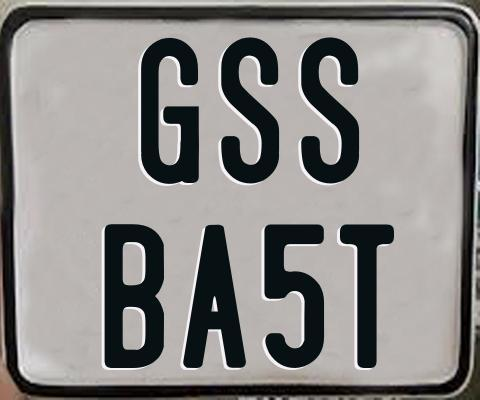5: (263, 221, 327, 367)
A: (180, 222, 245, 368)
B: (104, 223, 168, 373)
G: (141, 36, 199, 187)
S: (299, 36, 361, 184), (219, 34, 278, 180)
T: (337, 222, 394, 369)
